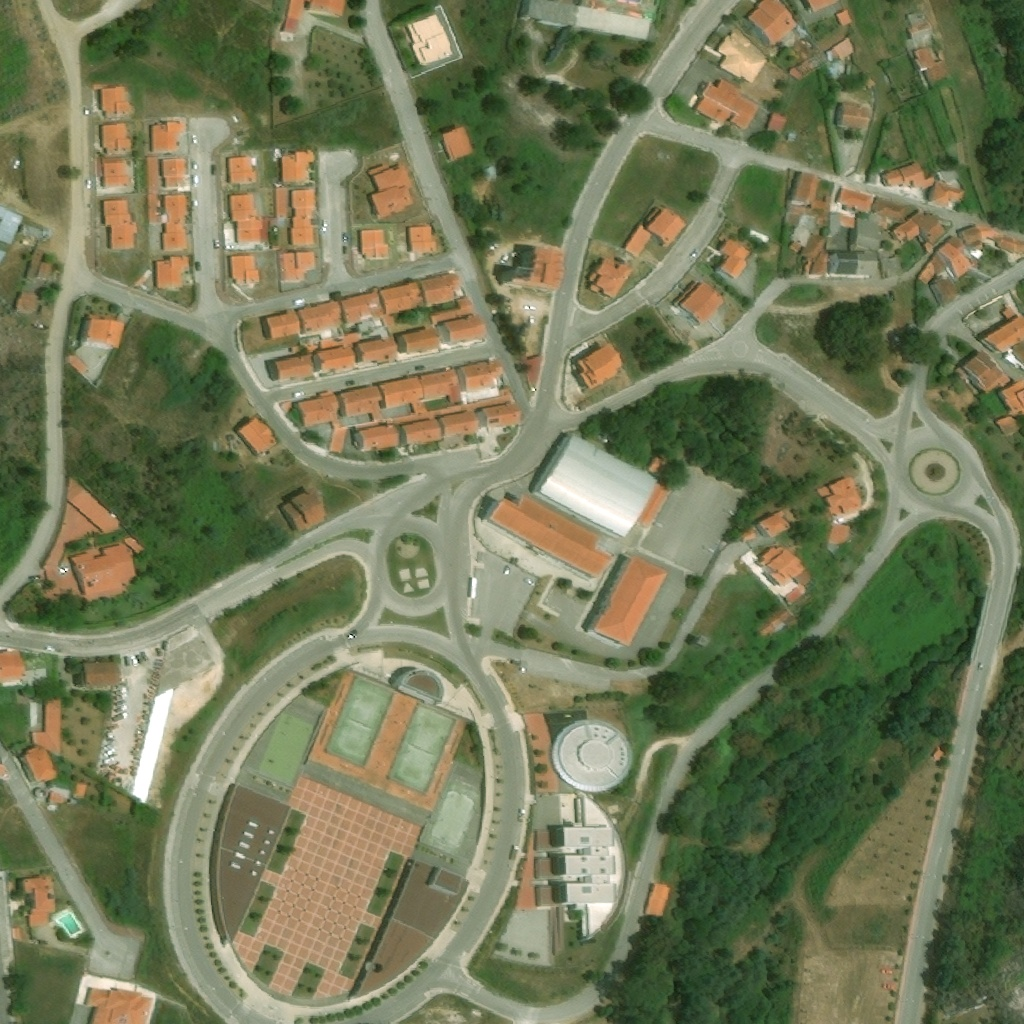0 no-damage: (354, 857, 474, 1001), (531, 431, 673, 544), (534, 793, 626, 940), (216, 783, 293, 946), (483, 493, 617, 580), (587, 552, 670, 651), (516, 0, 660, 47), (553, 719, 636, 791), (389, 388, 514, 425), (70, 541, 139, 597), (498, 247, 567, 299), (693, 78, 759, 129), (297, 390, 348, 455), (624, 206, 685, 259), (68, 477, 122, 534), (717, 27, 769, 84), (918, 235, 974, 287), (953, 349, 1011, 397), (406, 13, 454, 67), (673, 280, 725, 329), (367, 165, 414, 218), (85, 987, 154, 1023), (758, 545, 814, 588), (279, 487, 330, 534), (573, 343, 622, 391), (230, 193, 277, 243), (817, 474, 867, 521), (892, 211, 946, 254), (282, 0, 347, 34), (960, 225, 1023, 260), (980, 306, 1023, 355), (827, 213, 881, 251), (748, 0, 798, 41), (17, 876, 56, 928), (394, 668, 446, 706), (587, 257, 634, 299), (788, 168, 832, 212), (787, 206, 827, 254), (80, 314, 128, 353), (236, 415, 279, 457), (32, 697, 61, 757), (104, 198, 138, 249), (341, 287, 385, 326), (380, 377, 424, 415), (882, 161, 937, 191), (459, 359, 505, 394), (338, 386, 383, 421), (380, 283, 425, 317), (299, 299, 345, 332), (420, 273, 465, 306), (19, 746, 58, 784), (718, 237, 751, 281), (419, 370, 461, 404), (162, 195, 188, 249), (914, 46, 951, 83), (441, 315, 487, 344), (439, 125, 474, 163), (756, 606, 798, 637), (353, 425, 400, 452), (0, 208, 24, 260), (261, 310, 302, 340), (829, 254, 879, 278), (271, 355, 315, 382), (398, 328, 442, 355), (431, 299, 475, 326), (151, 121, 188, 152), (758, 509, 795, 540), (479, 403, 523, 429), (400, 419, 442, 446), (643, 881, 672, 920), (155, 256, 190, 288), (440, 411, 481, 438), (147, 156, 163, 224), (281, 251, 316, 282), (929, 181, 967, 209), (281, 152, 315, 183), (81, 661, 120, 688), (836, 187, 875, 214), (357, 338, 399, 363), (315, 347, 356, 371), (928, 276, 959, 307), (101, 122, 133, 152), (101, 156, 132, 186), (230, 254, 260, 285), (0, 650, 28, 683), (100, 86, 130, 116), (26, 247, 55, 278), (878, 250, 909, 279), (837, 103, 869, 131), (826, 522, 853, 555), (999, 380, 1023, 417), (360, 230, 389, 259), (908, 10, 934, 42), (873, 199, 908, 222), (521, 355, 543, 391), (228, 157, 258, 182), (409, 227, 437, 252), (320, 333, 361, 350), (830, 38, 856, 64), (801, 234, 826, 261), (163, 159, 187, 187), (64, 351, 89, 375), (1003, 342, 1023, 372), (47, 781, 72, 803), (995, 416, 1021, 437), (291, 189, 316, 210), (767, 113, 789, 135), (290, 226, 315, 245), (810, 252, 830, 275), (275, 187, 288, 218), (747, 230, 772, 246), (645, 454, 664, 475), (810, 0, 843, 12), (940, 165, 961, 183), (293, 209, 313, 227), (738, 526, 758, 544), (125, 537, 146, 554), (835, 9, 853, 27), (787, 586, 804, 602), (479, 166, 495, 182), (789, 67, 806, 82), (73, 782, 87, 799), (932, 746, 947, 761), (0, 763, 10, 780), (12, 927, 23, 940), (868, 173, 879, 186), (291, 345, 301, 354), (803, 262, 810, 274), (306, 344, 315, 352)
4 un-classified: (69, 799, 77, 804)
